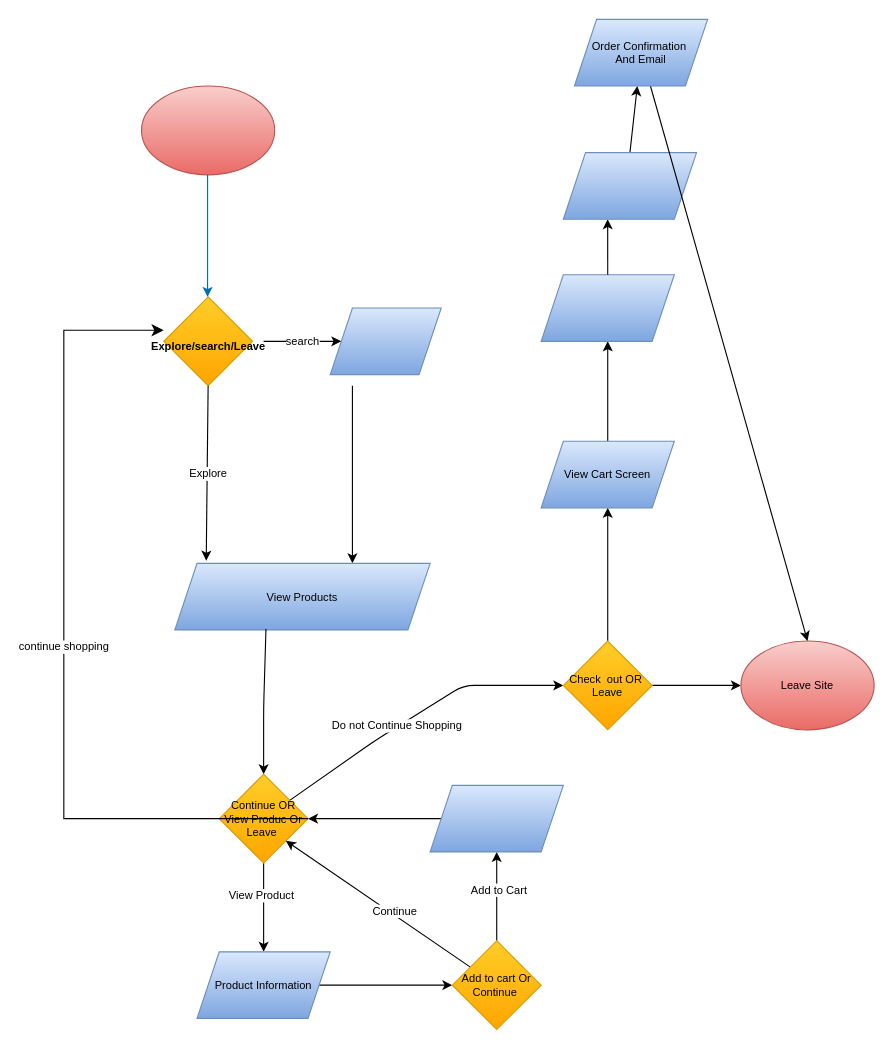
The diagram is 894 pixels wide and 1049 high, and some of its shapes have lost their labels. Each missing label, with the box of its shape:
Add to Cart Confirmationm: (429, 784, 563, 852)
Enter Site: (140, 85, 275, 175)
Input Payment: (562, 152, 697, 219)
Payment Screen: (540, 274, 674, 341)
User Query: (329, 307, 441, 375)
